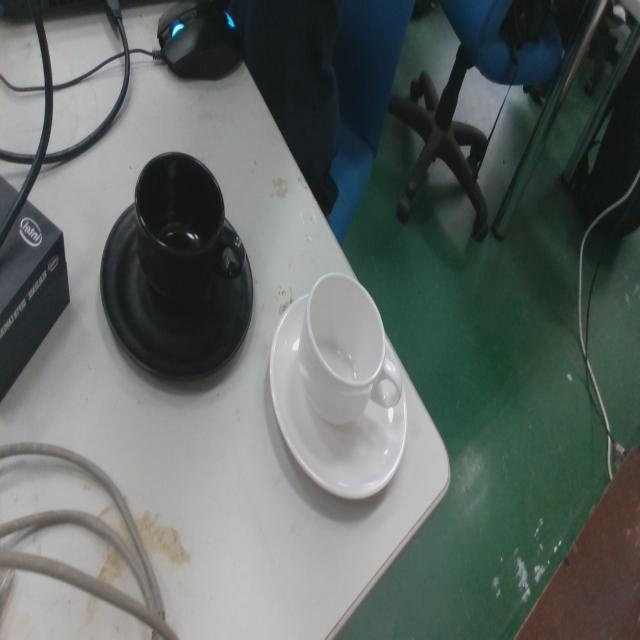black: (98, 149, 255, 389)
white: (268, 268, 409, 506)
